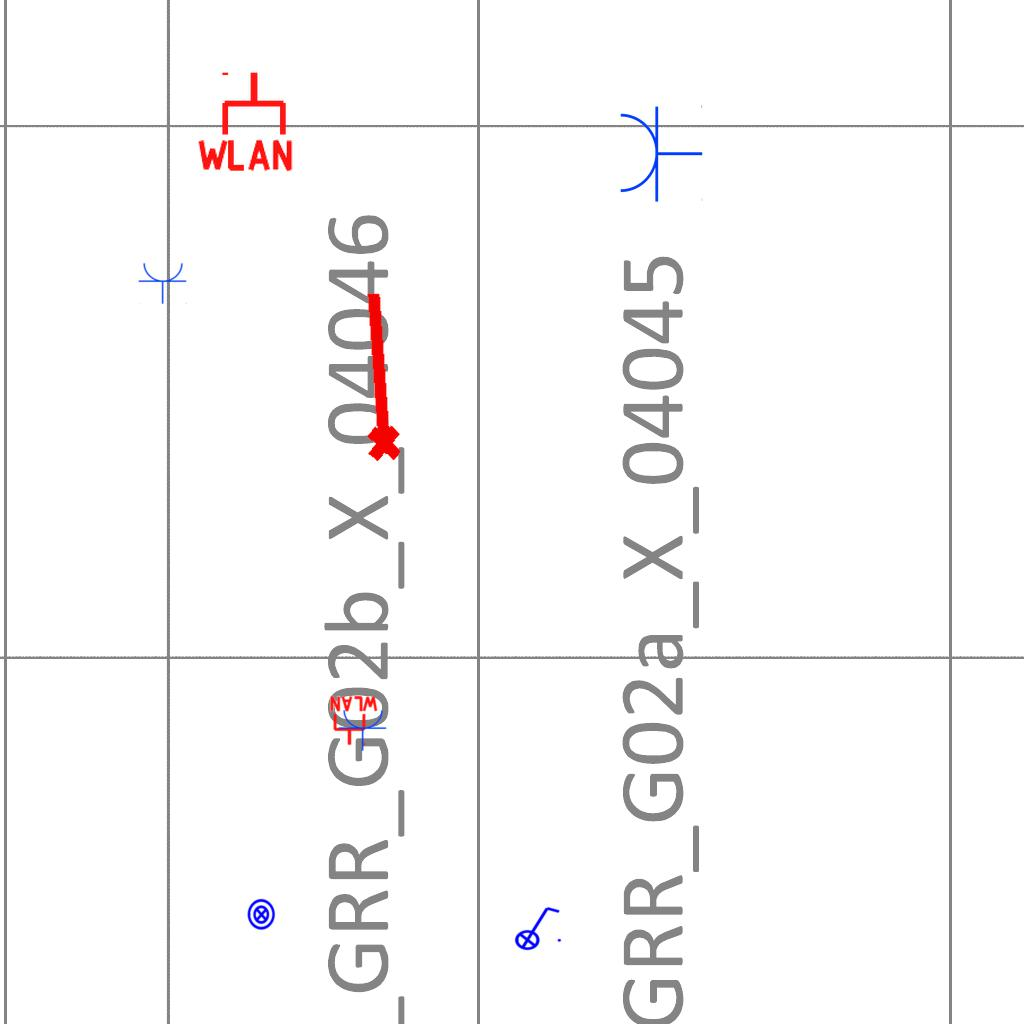ASR_Ansaugoeffnung: (347, 286, 407, 466)
Ausschalter_beleuchtet: (508, 903, 564, 951)
Schukosteckdose_einfach: (616, 103, 703, 203), (138, 261, 188, 304), (338, 708, 388, 751)
Taster_beleuchtet: (245, 898, 278, 931)
WLAN: (193, 68, 297, 173), (328, 695, 380, 747)
